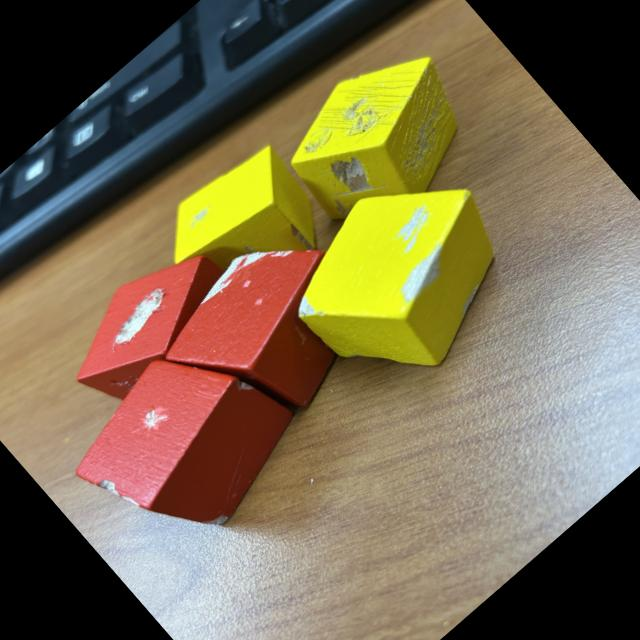broken: (268, 140, 544, 414), (54, 314, 320, 576), (146, 208, 396, 456), (268, 26, 494, 248), (48, 226, 272, 443), (147, 133, 340, 324)
